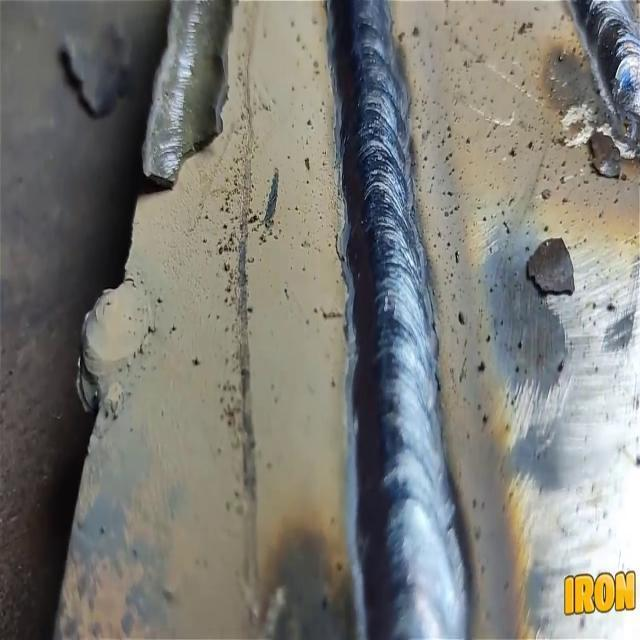Good Welding: (331, 4, 468, 640)
